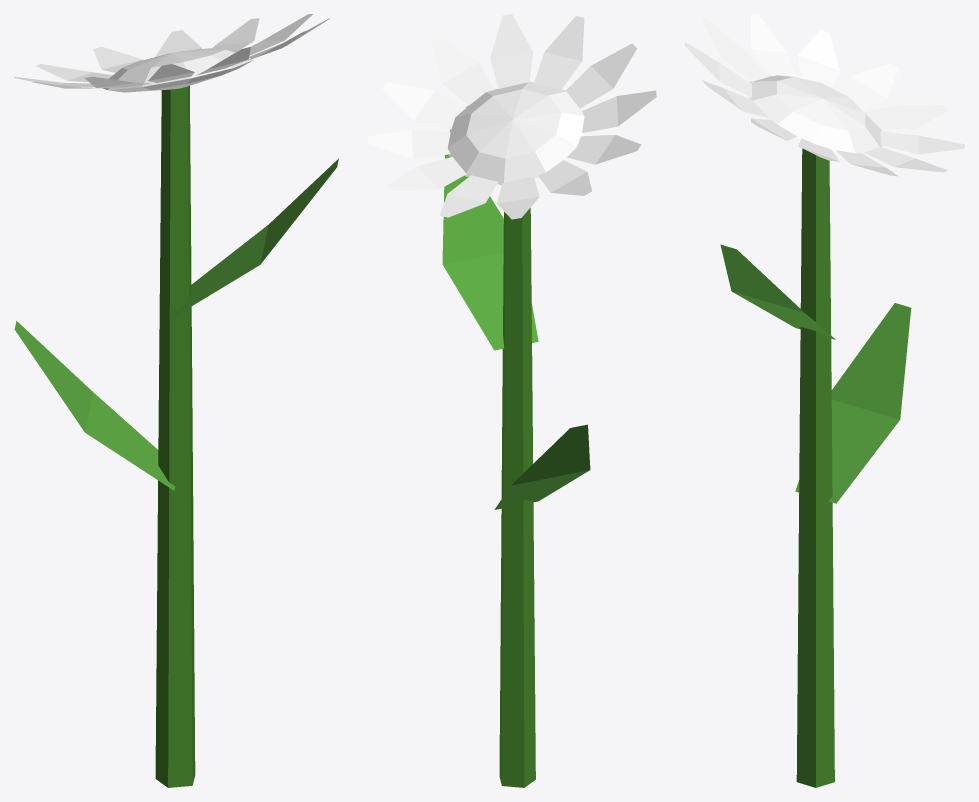
File: sunflower.glb
3 renders of one model, left to right at view 1: azimuth 30°, elevation 25°; view 2: azimuth 150°, elevation 25°; view 3: azimuth 270°, elevation 25°, orthographic. The views are drawn at different scales.
Parts seen in each view (by area): view 1: Sunflower; view 2: Sunflower; view 3: Sunflower.
Part boxes in pixels (bbox=[...]): Sunflower: bbox=[14, 14, 338, 787]; Sunflower: bbox=[367, 14, 656, 787]; Sunflower: bbox=[685, 14, 964, 787].
Bounding box in the file's own units: 0.6018 × 1.62 × 0.5579.
